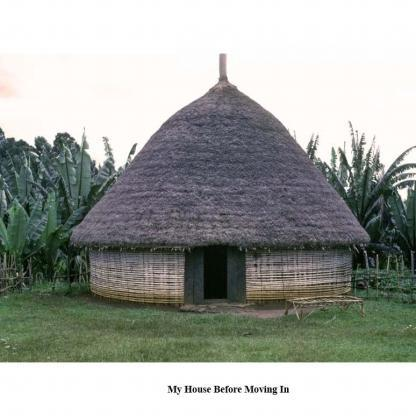Building Outline: (69, 54, 372, 307)
Dont: (284, 295, 365, 322)
Door: (204, 246, 227, 300)
Door Hole: (184, 247, 246, 305)
Facade: (95, 206, 344, 307)
Ground Floor: (88, 246, 353, 307)
Roof: (69, 80, 372, 248)
